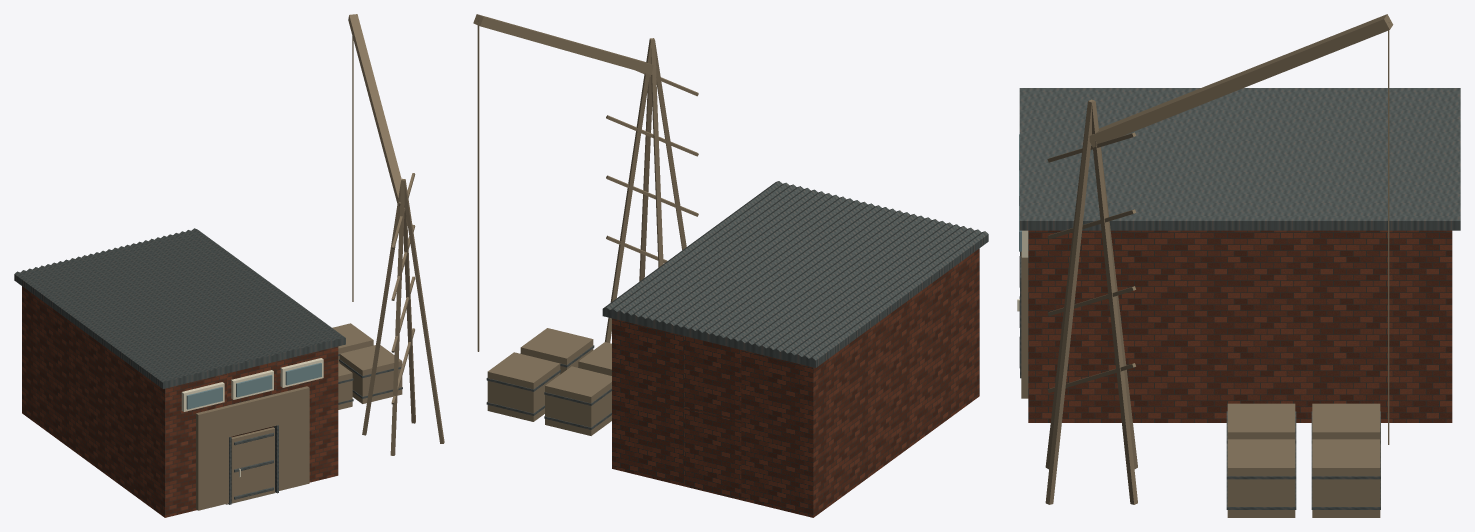
Rendered from docks.glb.
3 views of the same model, side by side, from view 1: azimuth 30°, elevation 25°; view 2: azimuth 150°, elevation 25°; view 3: azimuth 270°, elevation 25° (orthographic). The views are drawn at different scales.
Visible parts, largest first — view 1: cargo corrugated roof, cargo shed wing, loading gate side, loading wicket, cargo clerestory glazing, cargo clerestory frame; view 2: cargo shed wing, cargo corrugated roof, loading gate side; view 3: cargo shed wing, cargo corrugated roof, loading gate side.
Part boxes in pixels (bbox=[...]): cargo corrugated roof: bbox=[14, 228, 402, 504]; cargo shed wing: bbox=[22, 286, 338, 517]; loading gate side: bbox=[196, 14, 444, 510]; loading wicket: bbox=[231, 427, 274, 503]; cargo clerestory glazing: bbox=[186, 362, 321, 409]; cargo clerestory frame: bbox=[181, 358, 323, 411]; cargo shed wing: bbox=[612, 248, 979, 517]; cargo corrugated roof: bbox=[486, 181, 988, 429]; loading gate side: bbox=[473, 14, 698, 435]; cargo shed wing: bbox=[1028, 230, 1452, 422]; cargo corrugated roof: bbox=[1019, 88, 1460, 509]; loading gate side: bbox=[1021, 14, 1393, 517].
Bounding box in the file's own units: 12.86 × 13.21 × 10.46.
Materials: 6 (2 with a texture image).
